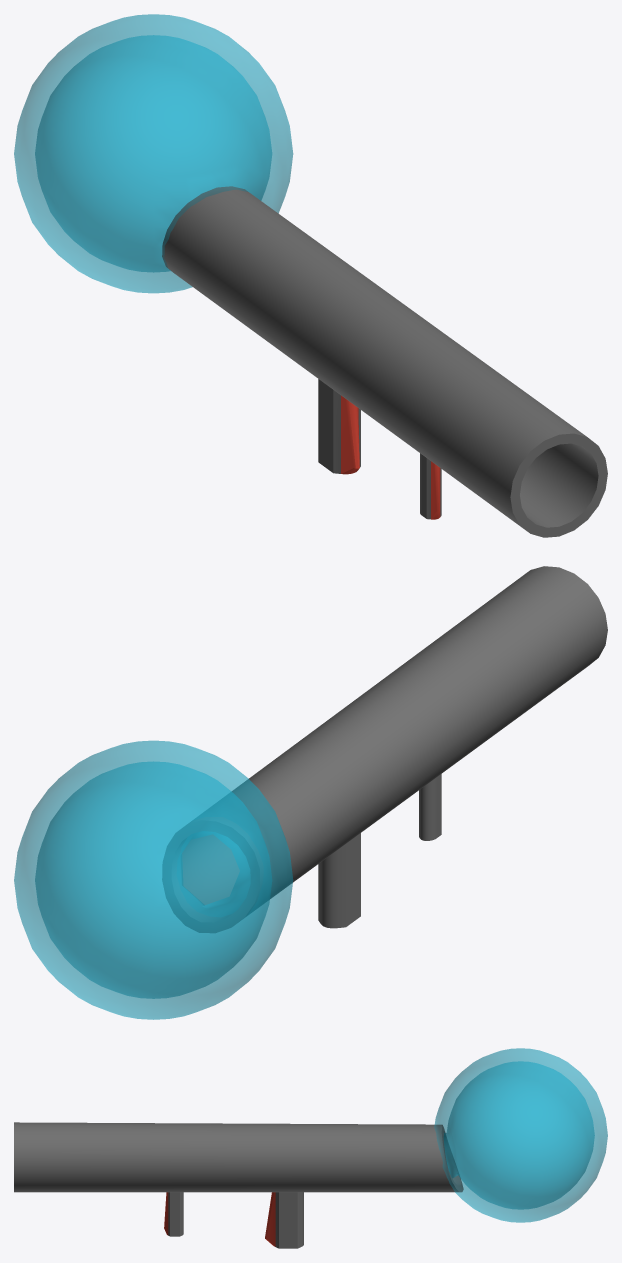
Rendered from Gun_Long.fbx.
3 renders of one model, top to bottom at view 1: azimuth 30°, elevation 25°; view 2: azimuth 150°, elevation 25°; view 3: azimuth 270°, elevation 25°, orthographic. The views are drawn at different scales.
Parts seen in each view (by area): view 1: Gun_Long; view 2: Gun_Long; view 3: Gun_Long.
Part boxes in pixels (x1,y1,x2,y2): Gun_Long: [14, 14, 607, 537]; Gun_Long: [14, 566, 607, 1019]; Gun_Long: [14, 1048, 607, 1248].
Bounding box in the file's own units: 0.6782 × 0.8065 × 2.31.
